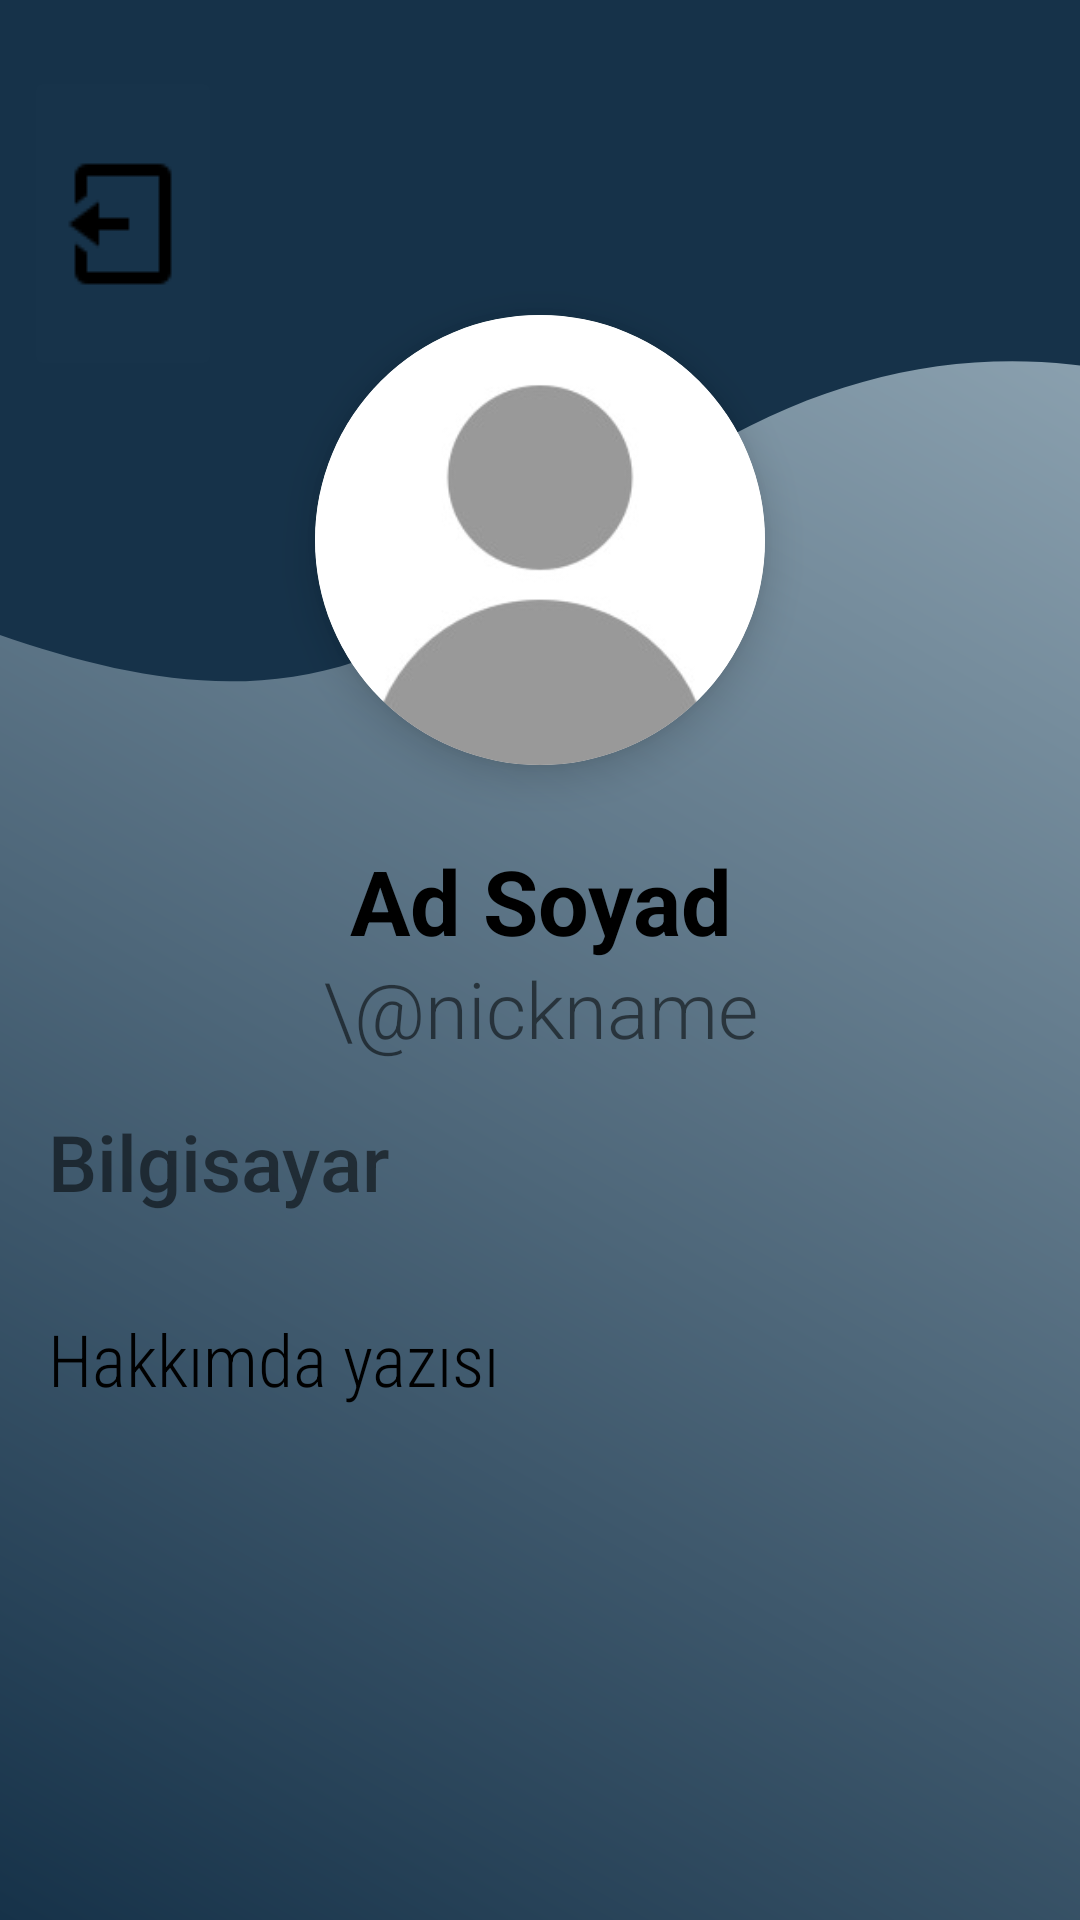

Icon bounding boxes for this 1080 x 1920 phone screenshot, format box=[x1, y1, x2, y2]:
geri dön: box=[70, 164, 171, 284]
